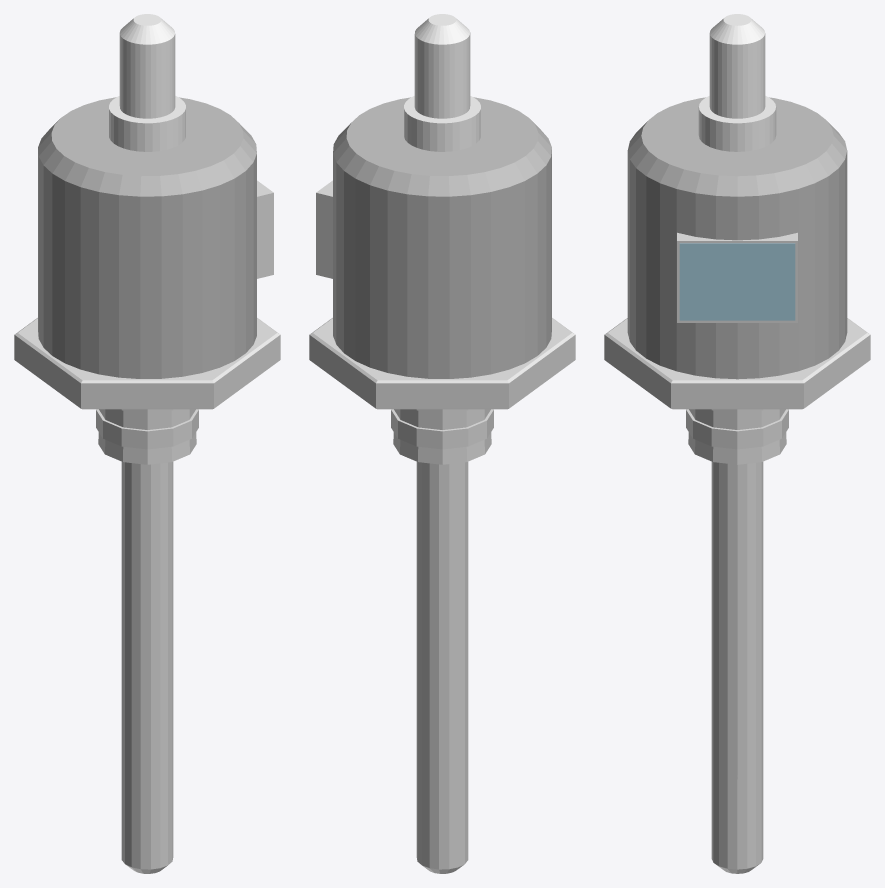
Rendered from temperature_sensor.fbx.
3 views of the same model, side by side, from view 1: azimuth 30°, elevation 25°; view 2: azimuth 150°, elevation 25°; view 3: azimuth 270°, elevation 25° (orthographic).
Parts seen in each view (by area): view 1: body, Cylinder.001, Cylinder, antenna; view 2: body, Cylinder.001, Cylinder, antenna; view 3: body, Cylinder.001, Cylinder, screen, antenna.
Boxes of the visible parts, x1,y1,x2,y2 form: body: (38,97,256,378); Cylinder.001: (121,462,173,873); Cylinder: (14,180,280,464); antenna: (109,14,185,151); body: (333,97,551,378); Cylinder.001: (416,462,468,873); Cylinder: (309,180,575,464); antenna: (404,14,480,151); body: (627,97,847,379); Cylinder.001: (711,462,763,873); Cylinder: (604,232,870,464); screen: (679,243,795,320); antenna: (698,14,776,151).
Size of the model in its own units: 210 by 852 by 242.
